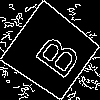B: (26, 26, 83, 81)
